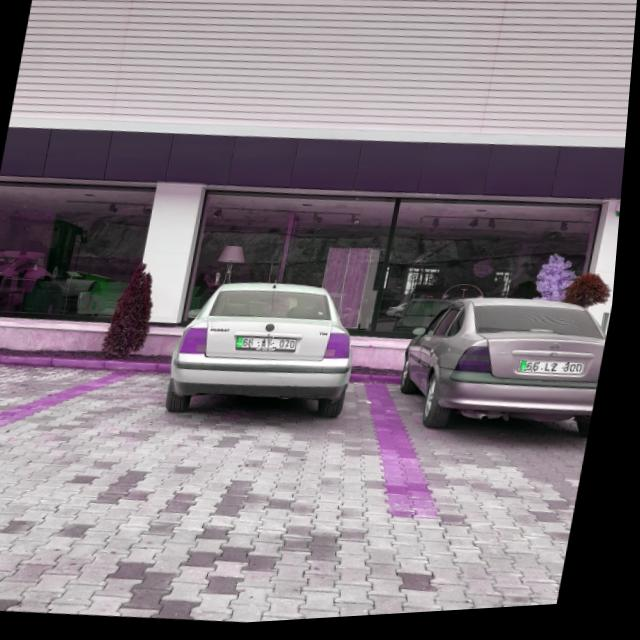license_plate: (525, 364, 591, 384), (242, 336, 304, 357)
